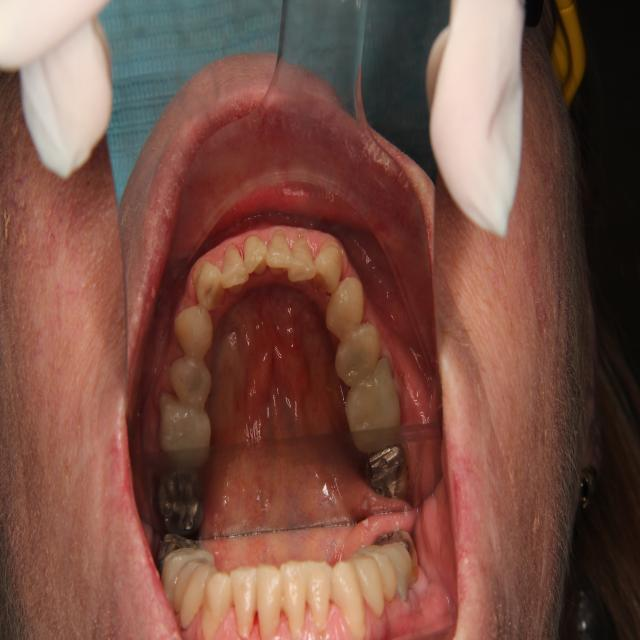tooth: (343, 354, 406, 454), (152, 387, 218, 474), (152, 459, 212, 539), (360, 439, 417, 508), (333, 319, 383, 387), (322, 272, 369, 343), (166, 352, 218, 408), (189, 254, 230, 317), (171, 301, 215, 358), (307, 236, 345, 297), (216, 237, 250, 301), (284, 231, 317, 288), (238, 232, 272, 284), (264, 225, 295, 282)
